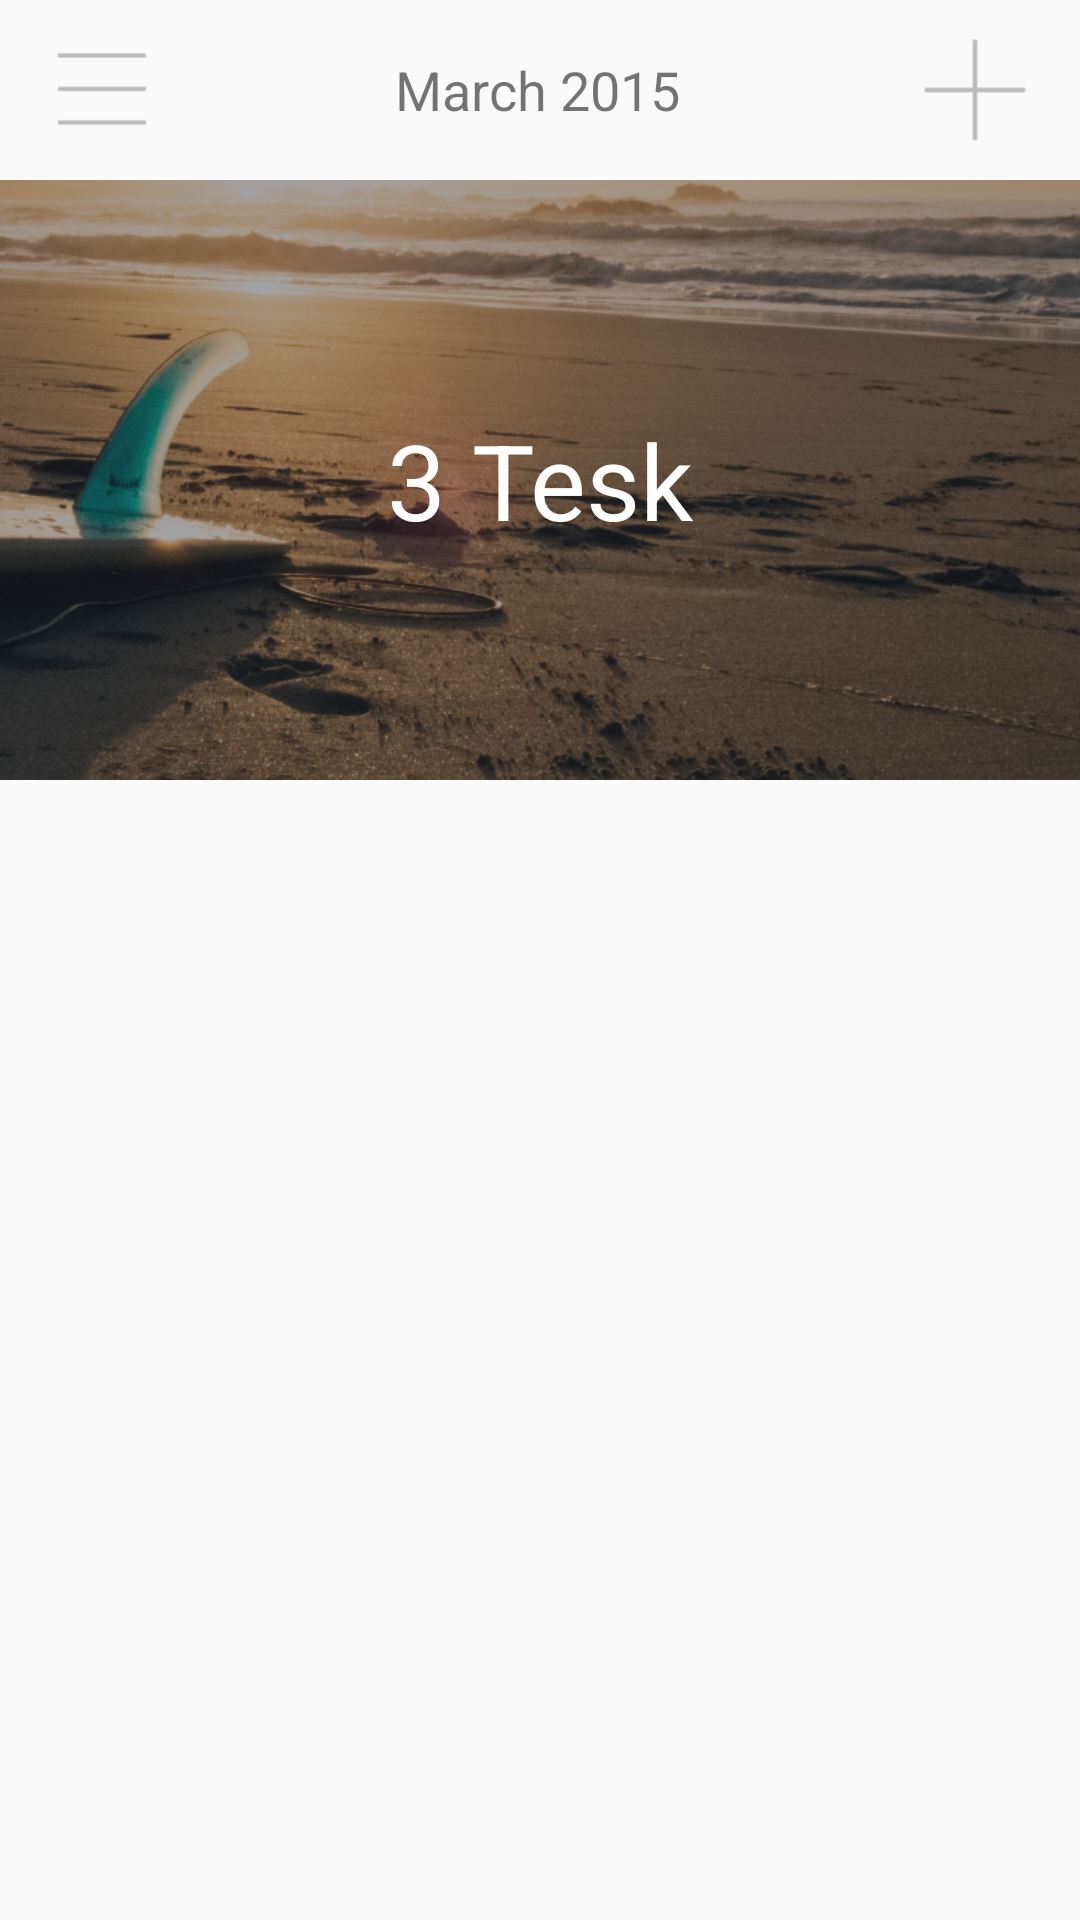

Screen size 1080 × 1920. Icon name, then its box in pixels as bbox=(x1, y1, x2, y2):
menu: bbox=(58, 53, 146, 125)
plus gra: bbox=(925, 40, 1025, 140)
